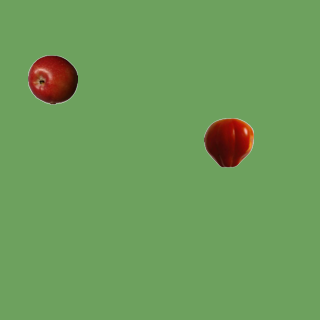Apple Braeburn: (27, 54, 77, 104)
Tomato 1: (203, 117, 253, 167)
